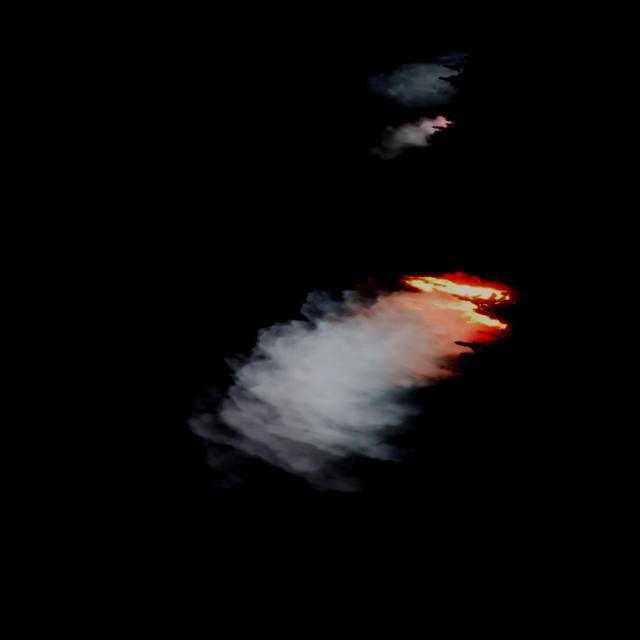fire: (388, 263, 510, 333)
smoke: (162, 224, 525, 542), (318, 21, 481, 178)
